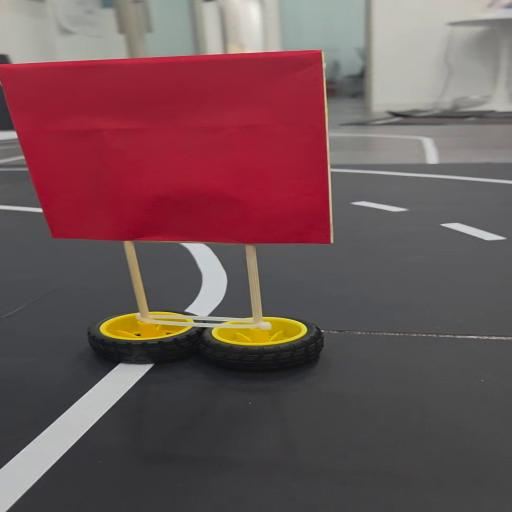Sign_A: (5, 47, 356, 379)
